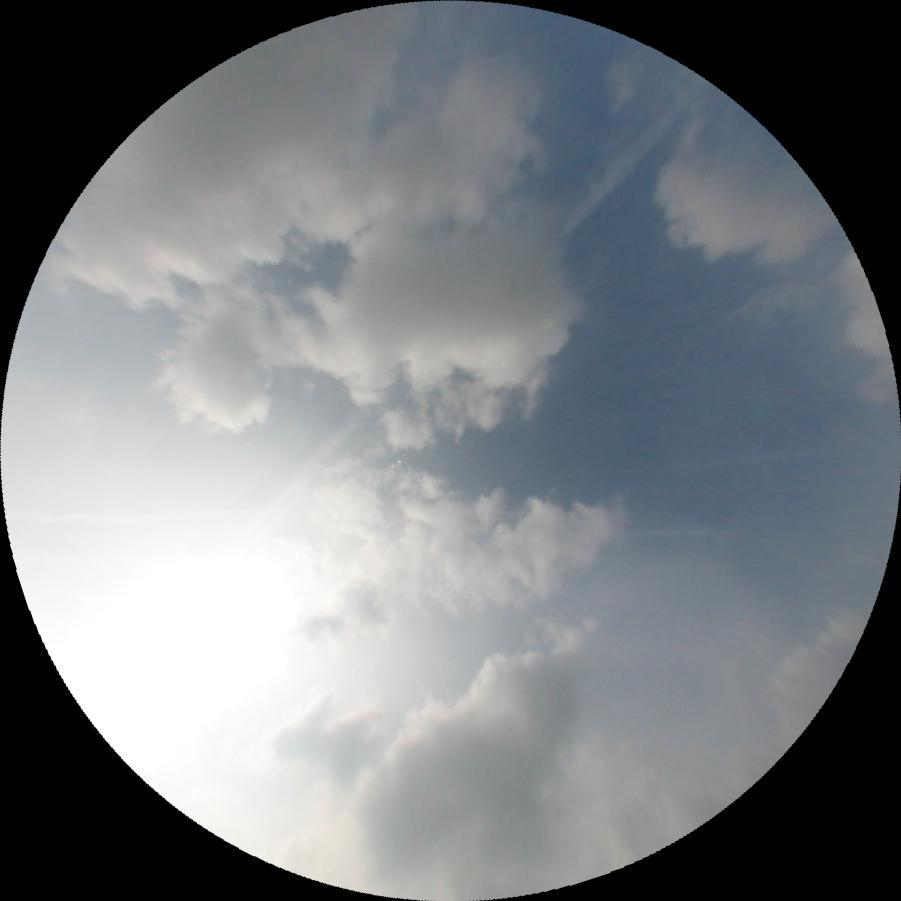contrail old: (671, 440, 843, 474)
contrail veryold: (216, 67, 708, 571)
sun: (24, 519, 331, 788)
unknow: (7, 509, 167, 525), (614, 525, 741, 539)
